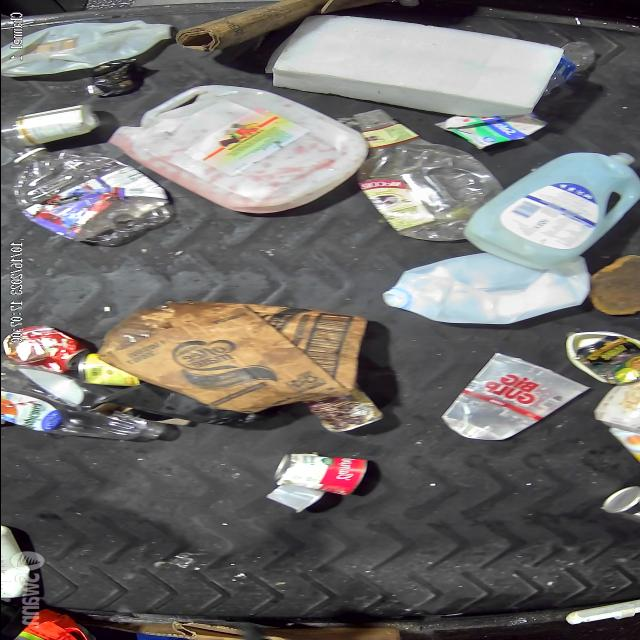can: (265, 450, 376, 500), (0, 325, 80, 372)
milk_jug: (114, 80, 350, 214), (464, 146, 640, 270), (382, 258, 582, 324), (0, 14, 160, 78)
plastic_bottle: (351, 104, 488, 242), (0, 144, 166, 250)
